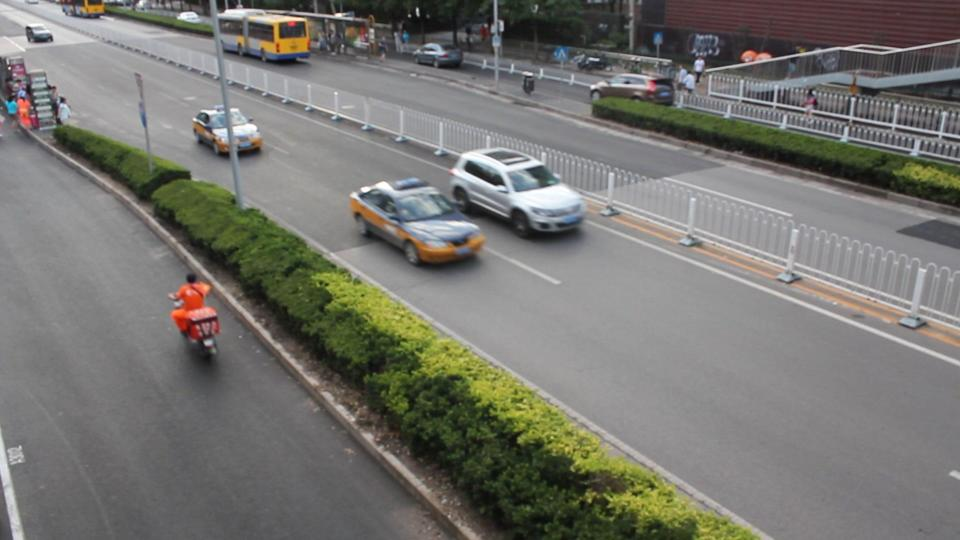Bus: (216, 9, 309, 62)
Car: (348, 175, 485, 270), (449, 148, 586, 240), (586, 70, 672, 116), (194, 107, 260, 156), (412, 42, 462, 70)
